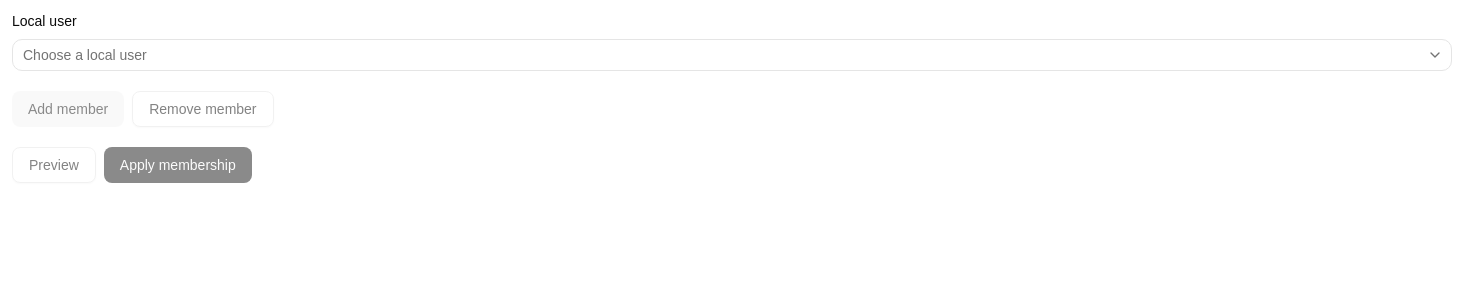
it: GroupMembershipManager › previews a local membership change before apply
Click the dropdown labelled "local user".
click(85, 55)  # box [12,39,1452,71]
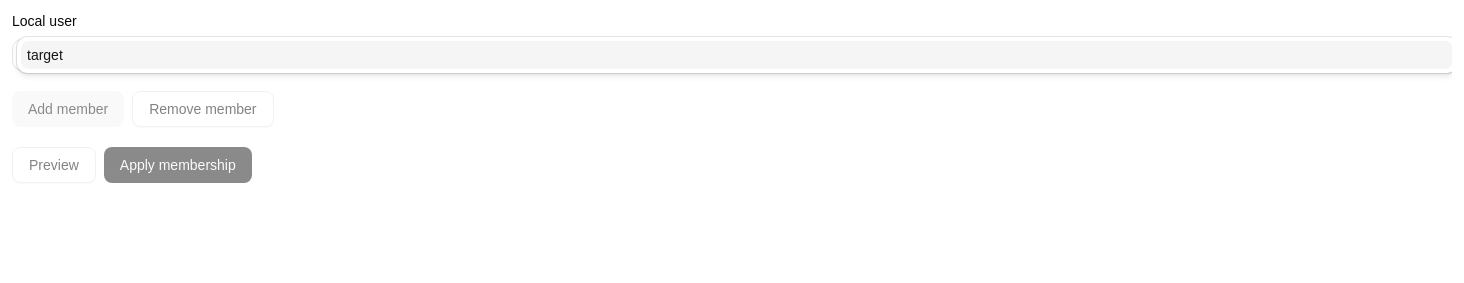
Click the option "target".
click(45, 55)  # box [21,41,1452,69]
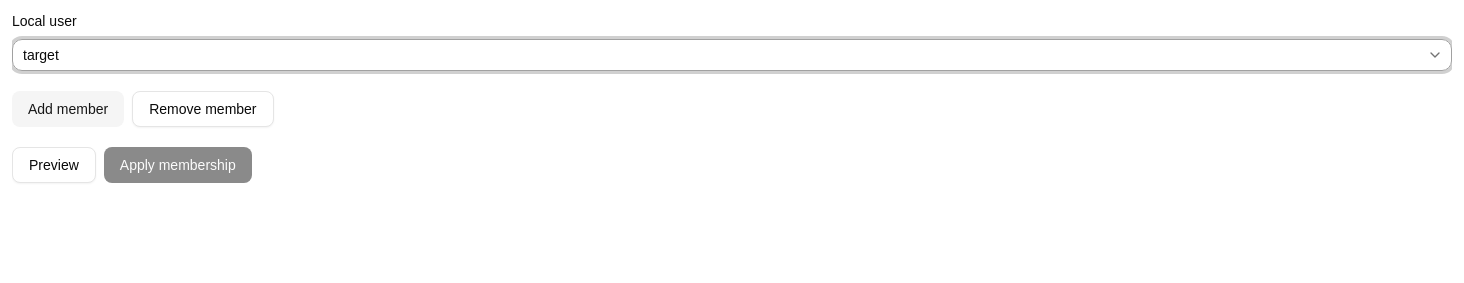
Click the button "Preview".
click(54, 165)  # box [12,147,96,183]
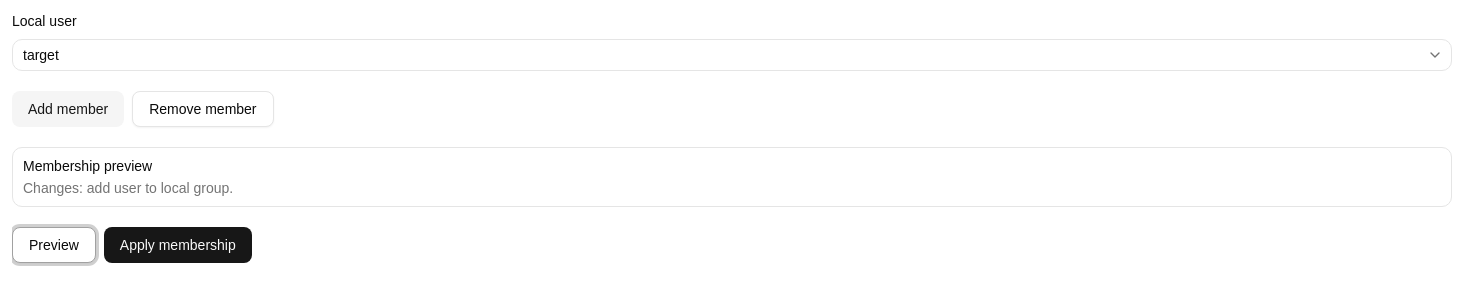
Result: the text "Membership preview" is shown at [23,158,152,174]
